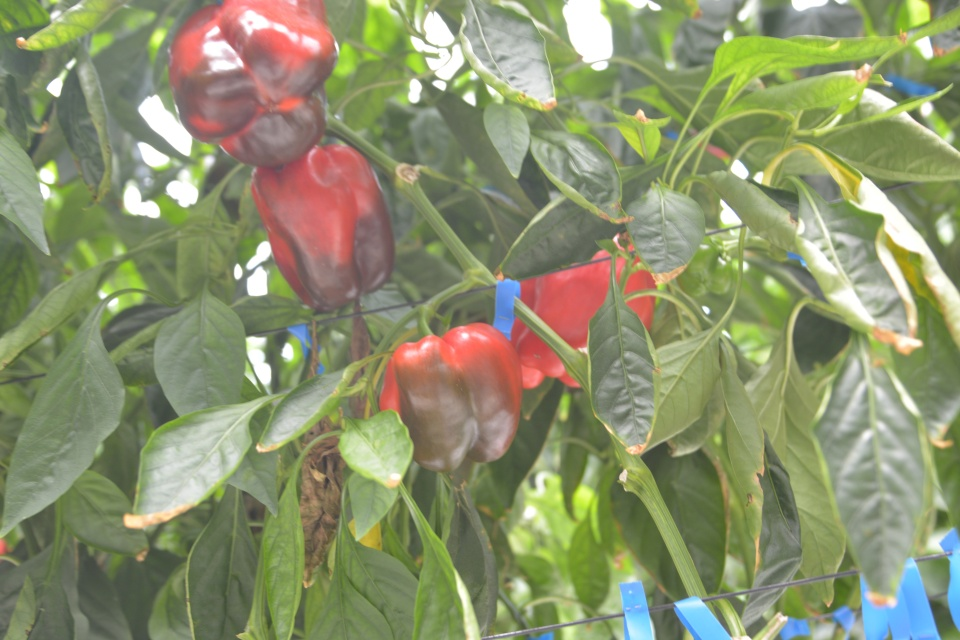fruit: (164, 0, 340, 170), (247, 142, 398, 313), (506, 230, 659, 392), (376, 320, 525, 476)
immature: (675, 233, 735, 300)
